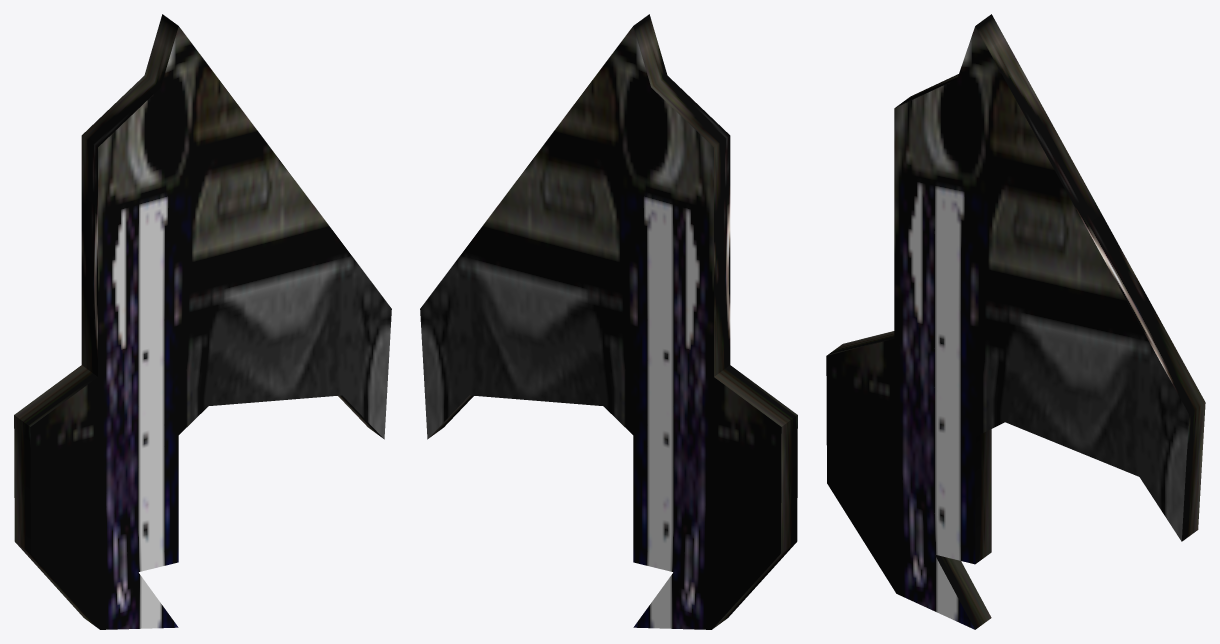
File: bio4.ico.obj
3 views of the same model, side by side, from view 1: azimuth 30°, elevation 25°; view 2: azimuth 150°, elevation 25°; view 3: azimuth 330°, elevation 25° (orthographic).
Bounding box in the file's own units: 3.19 × 5.07 × 0.25.
